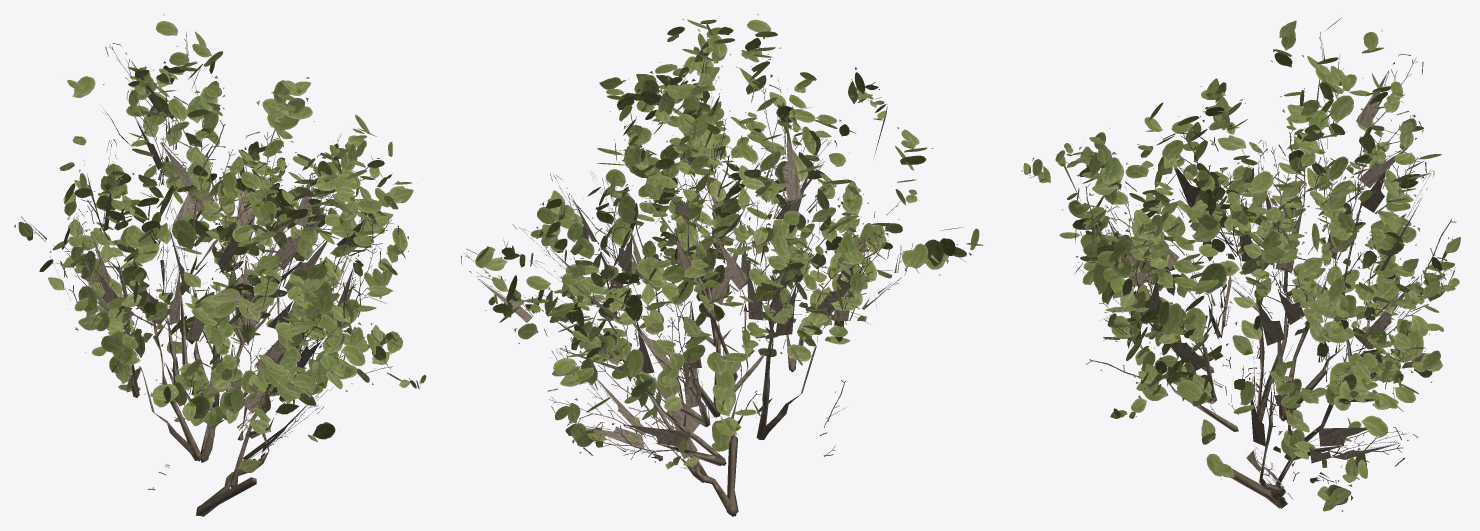
File: bushtree.glb
3 views of the same model, side by side, from view 1: azimuth 30°, elevation 25°; view 2: azimuth 150°, elevation 25°; view 3: azimuth 270°, elevation 25° (orthographic). The views are drawn at different scales.
Visible parts, largest first — view 1: lod1; view 2: lod1; view 3: lod1.
Boxes of the visible parts, box(x1,y1,x2,y2) form: lod1: box(14, 14, 426, 516); lod1: box(461, 14, 983, 516); lod1: box(1021, 18, 1460, 511).
Bounding box in the file's own units: 4.76 × 6.03 × 4.97.
Materials: 2 (2 with a texture image).
